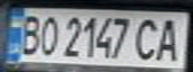1: (78, 14, 96, 58)
2: (60, 12, 81, 59)
4: (93, 14, 115, 58)
7: (109, 15, 136, 60)
A: (151, 15, 187, 63)
B: (15, 11, 45, 56)
C: (133, 15, 163, 62)
O: (36, 12, 60, 57)
